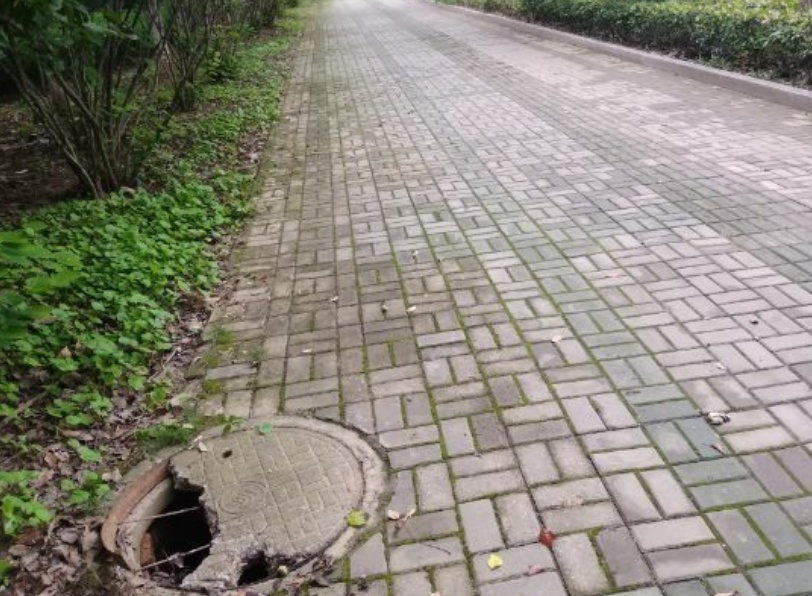broke: (98, 413, 386, 596)
